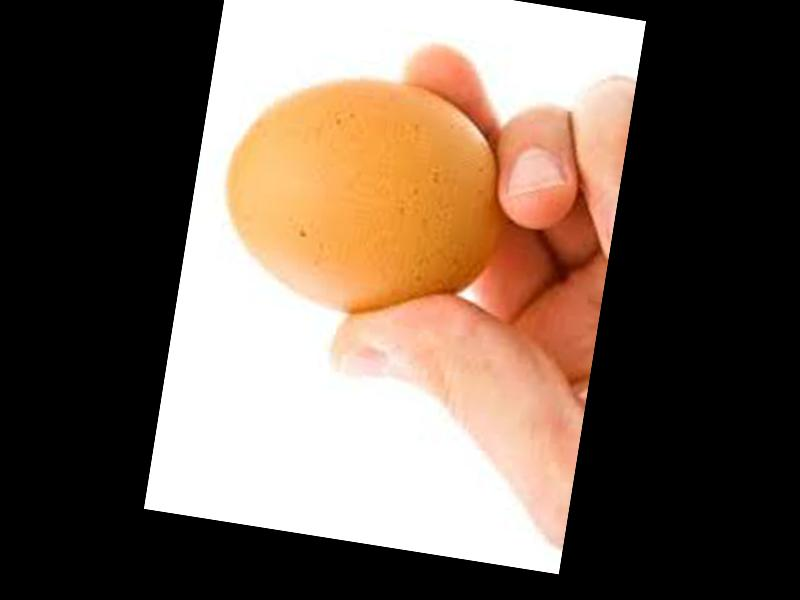Eggs: (207, 57, 514, 333)
